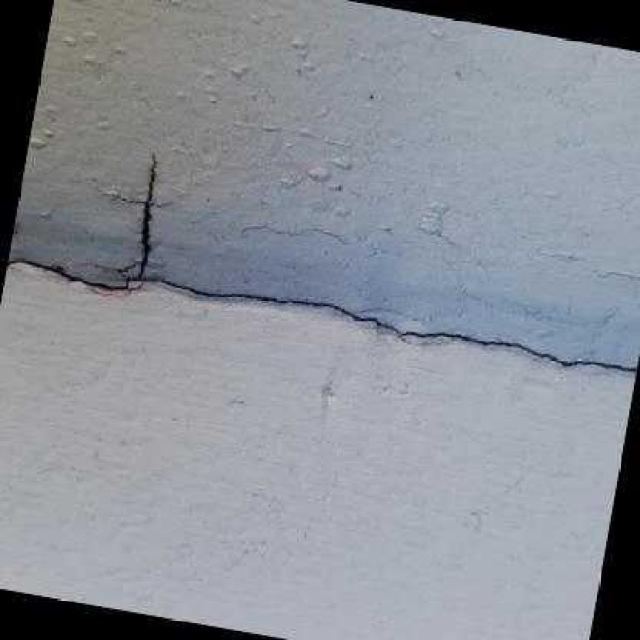D00: (4, 150, 637, 373)
